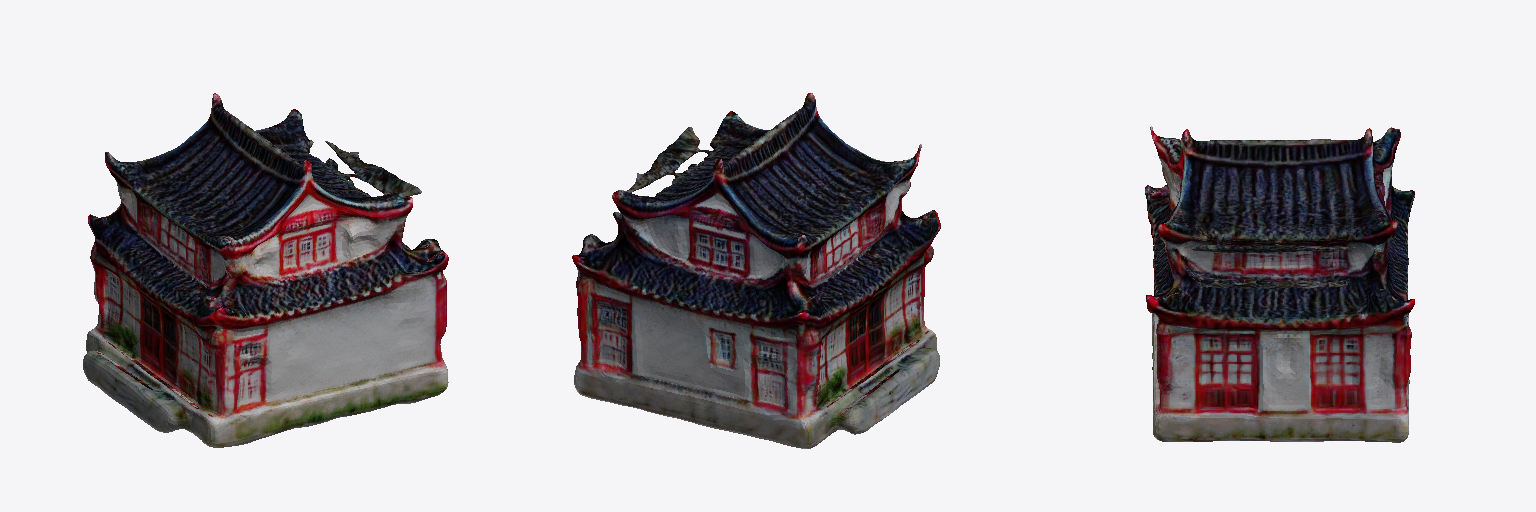
3 renders of one model, left to right at view 1: azimuth 30°, elevation 25°; view 2: azimuth 150°, elevation 25°; view 3: azimuth 270°, elevation 25°, orthographic.
Parts seen in each view (by area): view 1: mesh; view 2: mesh; view 3: mesh.
Part boxes in pixels (x1,y1,x2,y2): mesh: (83,93,448,447); mesh: (572,93,940,448); mesh: (1145,126,1414,442).
Size of the model in its own units: 0.9967 by 0.9211 by 0.8743.
Materials: 1 (1 with a texture image).